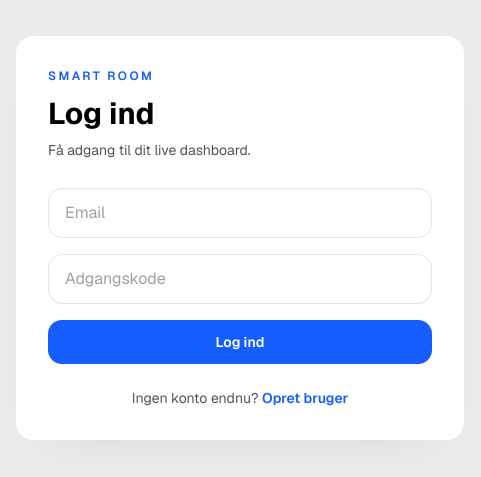
Test: LoginPage – formvalidering › viser fejl, når email-feltet er tomt
The width and height of the screenshot is (481, 477).
Agér: klik submit uden at udfylde noget
Click the button "Log ind" at (240, 342), box 48,320 -> 432,364
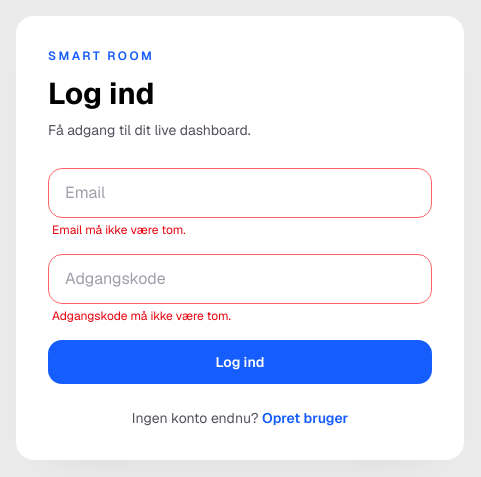
Expected: the text "Email må ikke være tom." is shown, 52,222 -> 186,238
